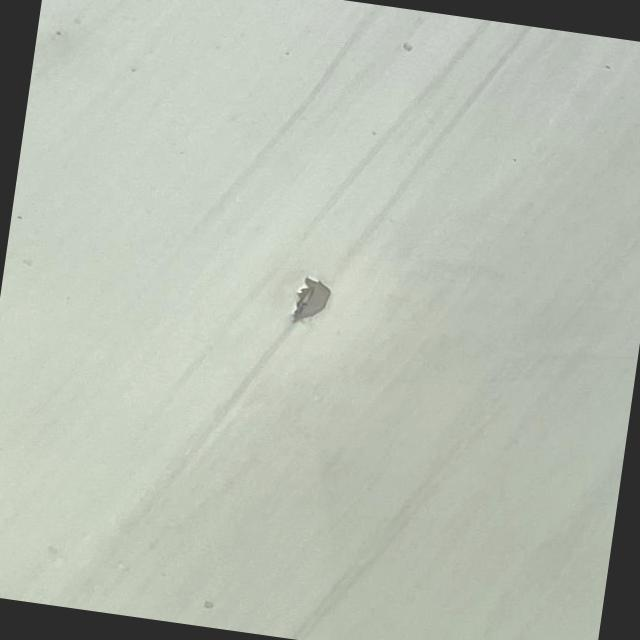crack: (270, 259, 326, 339)
